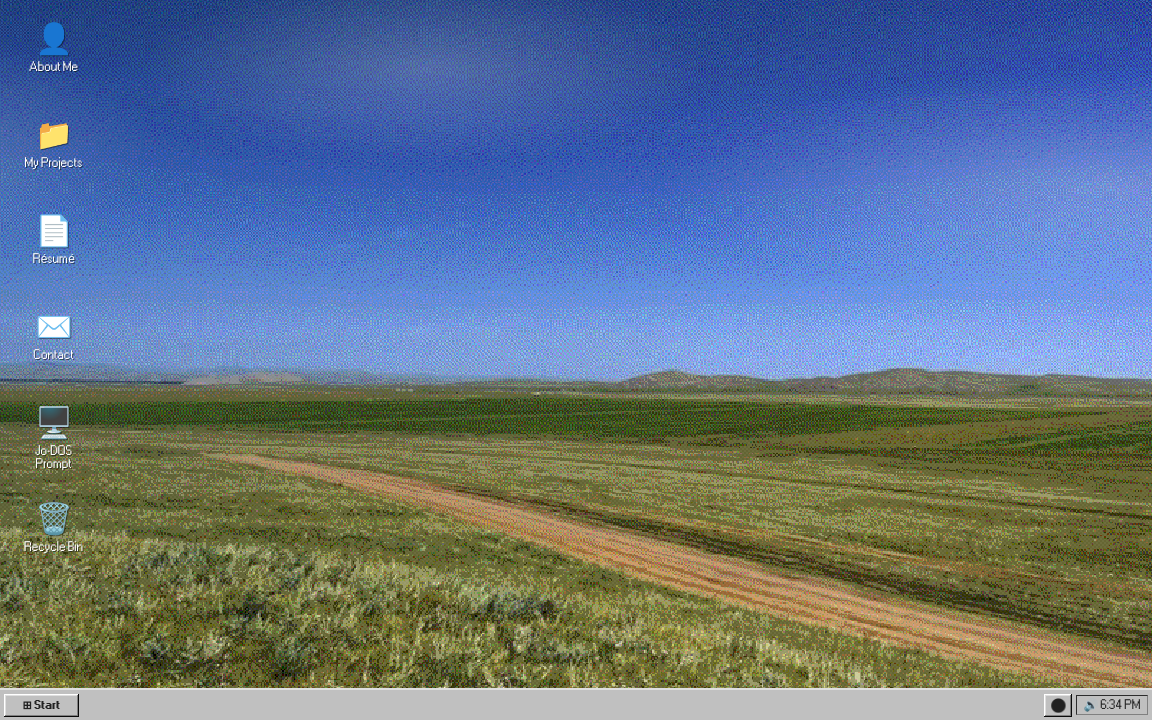
Test: Taskbar › Start button toggles the start menu
Click the button "⊞ Start".
click(42, 705)  # box [4,694,79,716]
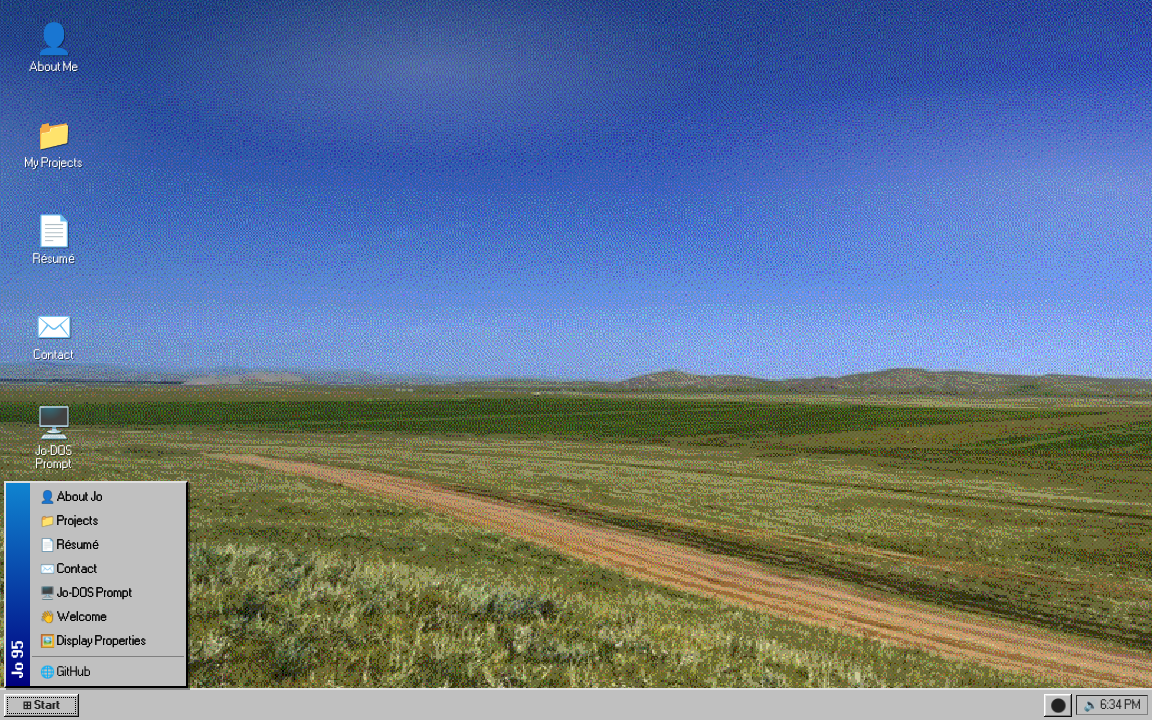
Expected: the menu is shown, [4,481,188,688]
